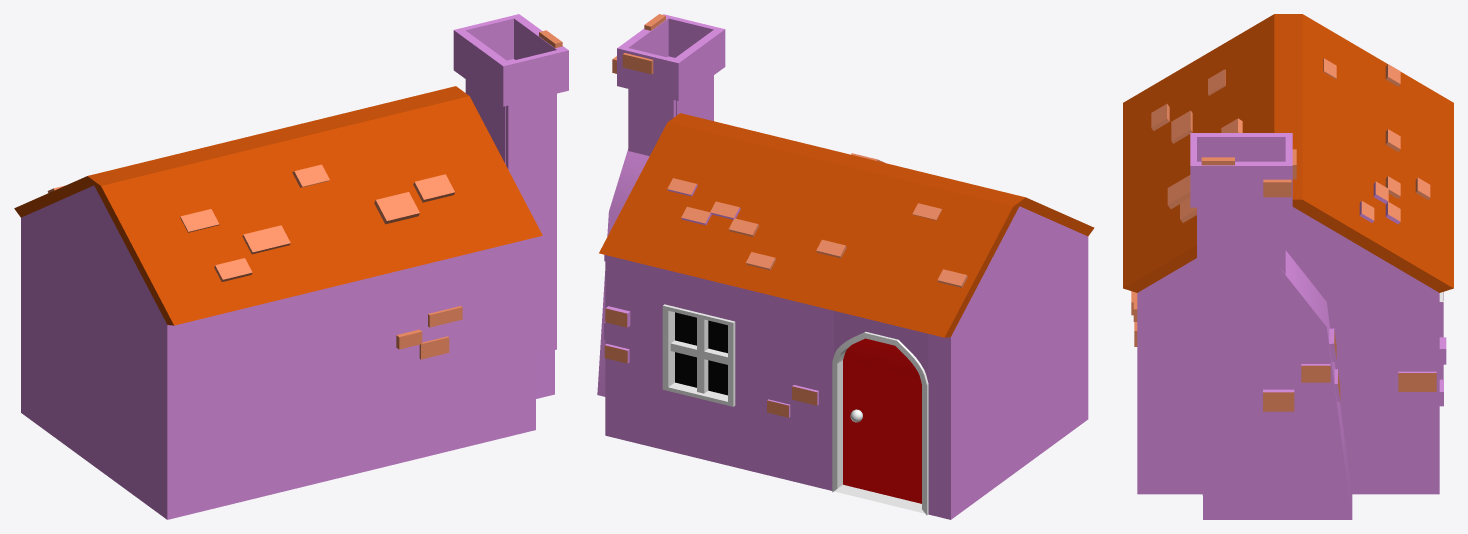
File: house2.fbx
3 renders of one model, left to right at view 1: azimuth 30°, elevation 25°; view 2: azimuth 150°, elevation 25°; view 3: azimuth 270°, elevation 25°, orthographic. The views are drawn at different scales.
Visible parts, largest first — view 1: house2; view 2: house2; view 3: house2.
Boxes of the visible parts, <box> form: house2: <box>14,14,568,519</box>; house2: <box>597,14,1094,519</box>; house2: <box>1123,14,1453,519</box>.
Size of the model in its own units: 360 by 279 by 231.
